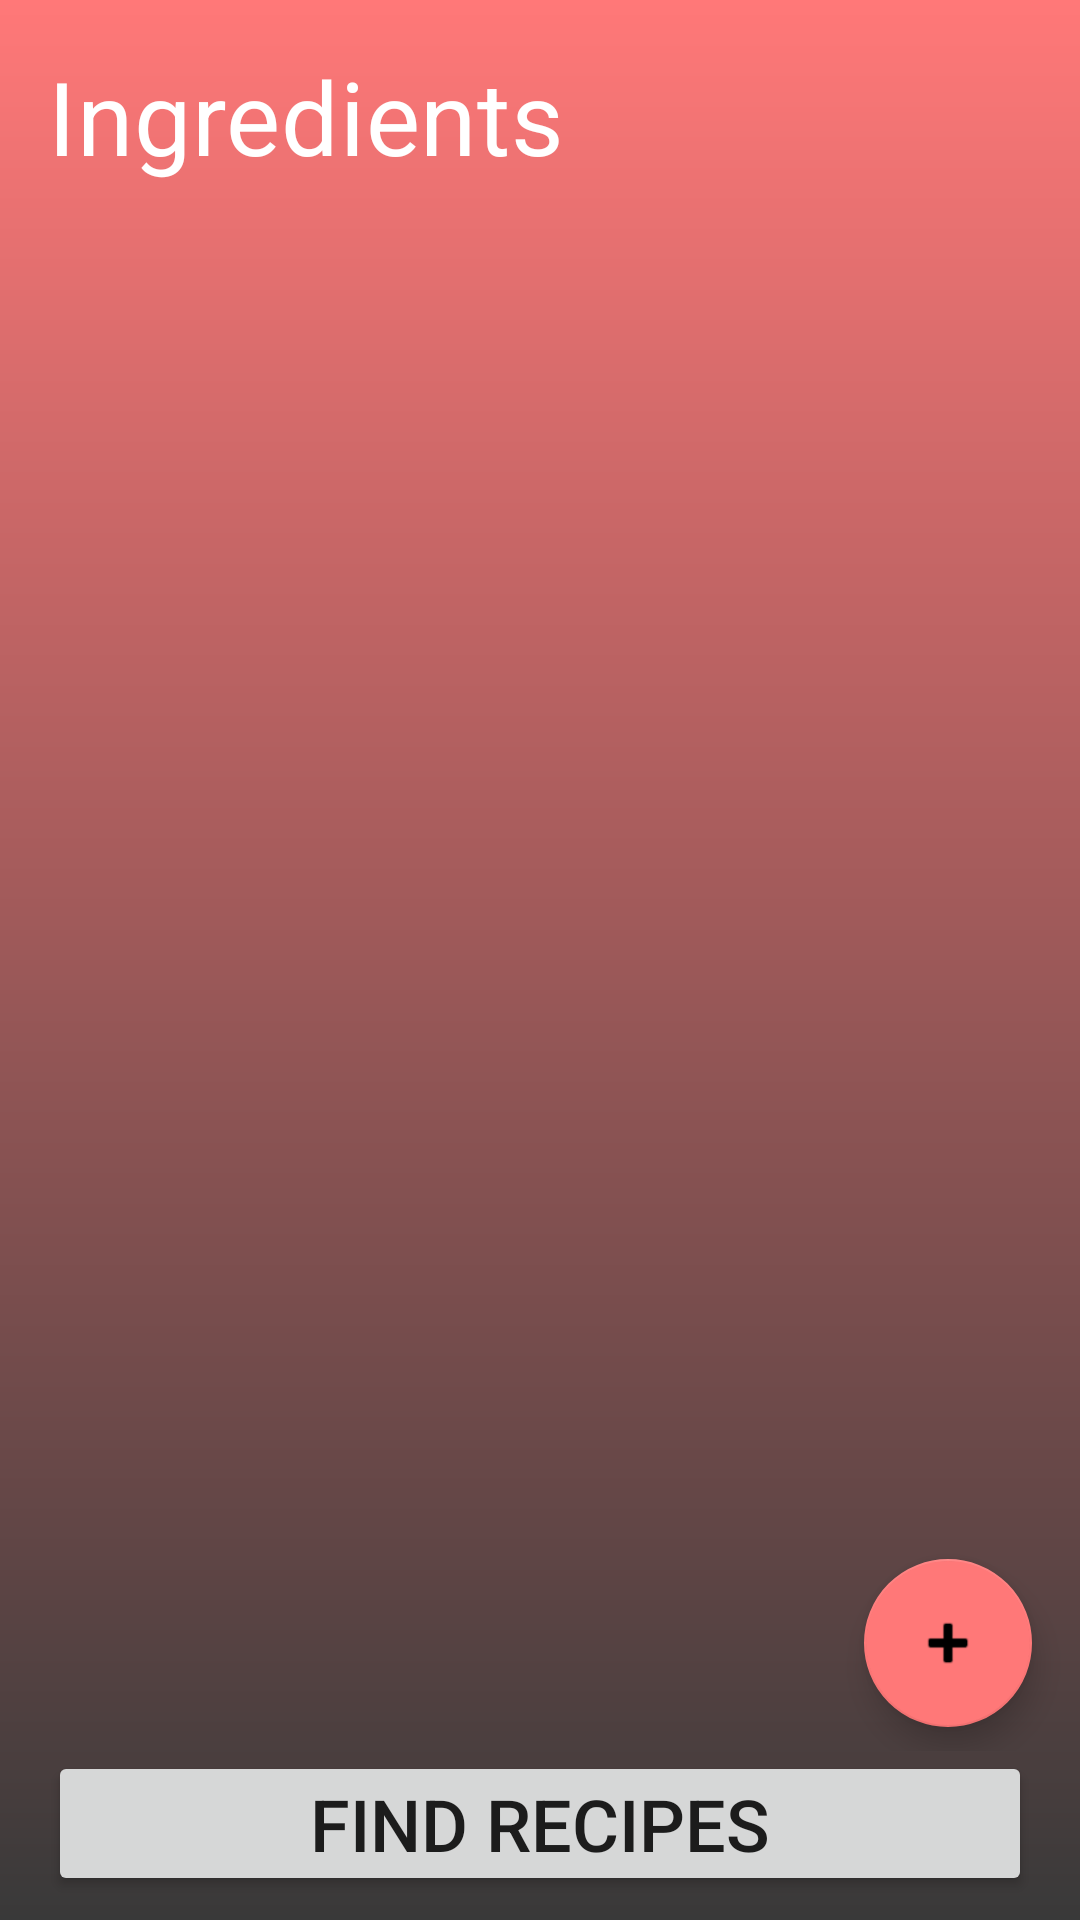

Icon click points for this 1080×1920 phone screenshot, format (x,y):
add: (948,1643)
